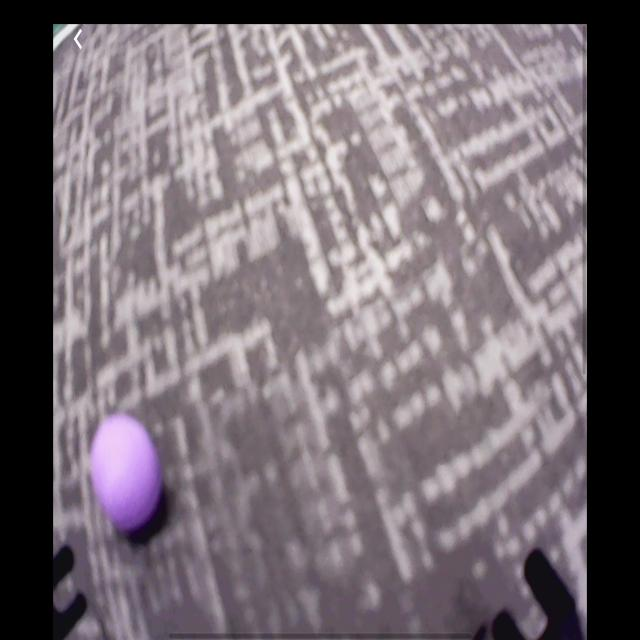ball: (91, 416, 162, 538)
